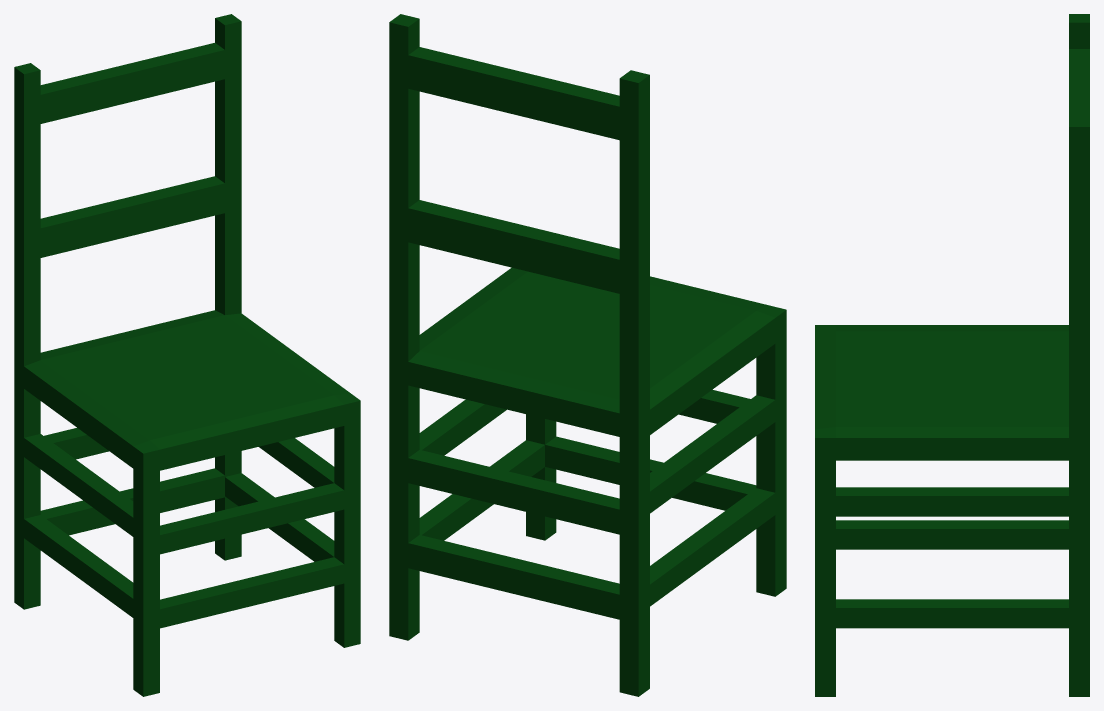
The model's file is cube.347_lev3.glb.
3 views of the same model, side by side, from view 1: azimuth 30°, elevation 25°; view 2: azimuth 150°, elevation 25°; view 3: azimuth 270°, elevation 25° (orthographic). The views are drawn at different scales.
Parts seen in each view (by area): view 1: cube.347_lev3; view 2: cube.347_lev3; view 3: cube.347_lev3.
Boxes of the visible parts, x1,y1,x2,y2 form: cube.347_lev3: [14, 14, 360, 696]; cube.347_lev3: [389, 14, 786, 696]; cube.347_lev3: [815, 14, 1089, 696].
Bounding box in the file's own units: 0.3303 × 0.7772 × 0.3398.
